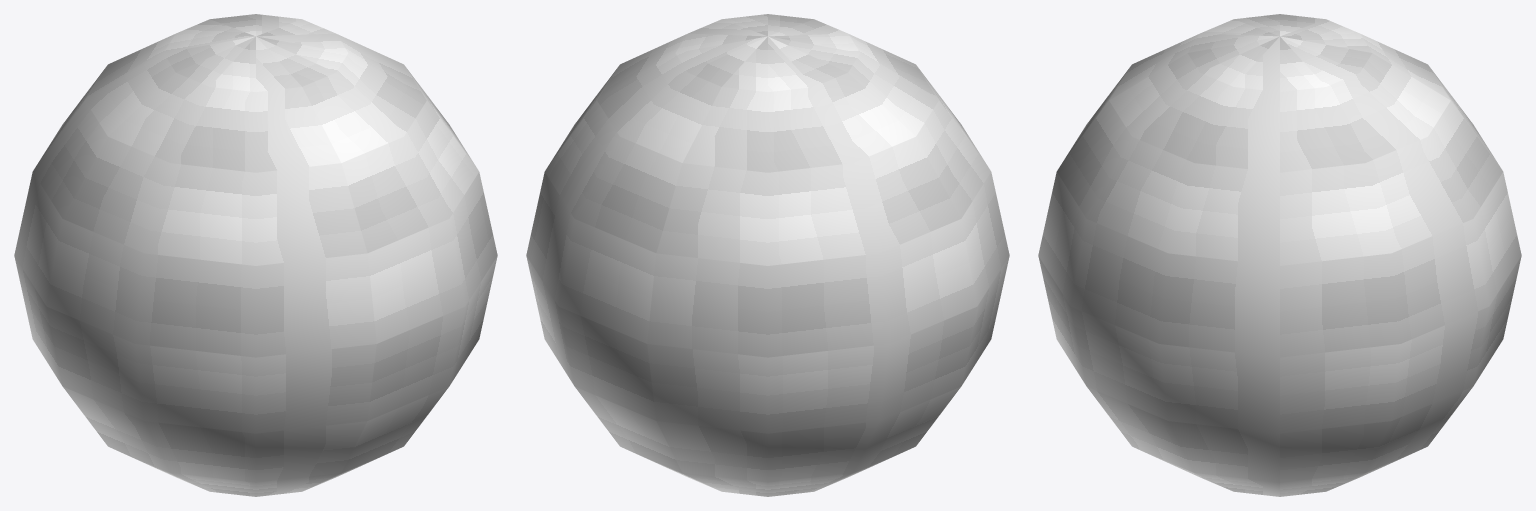
Rendered from smoke.obj.
3 renders of one model, left to right at view 1: azimuth 30°, elevation 25°; view 2: azimuth 150°, elevation 25°; view 3: azimuth 270°, elevation 25°, orthographic.
Parts seen in each view (by area): view 1: Smoke; view 2: Smoke; view 3: Smoke.
Part boxes in pixels (left/top/right/bottom): Smoke: left=14, top=14, right=497, bottom=496; Smoke: left=526, top=14, right=1009, bottom=496; Smoke: left=1038, top=14, right=1521, bottom=496.
Bounding box in the file's own units: 1 × 1 × 1.
Materials: 1 (1 with a texture image).
